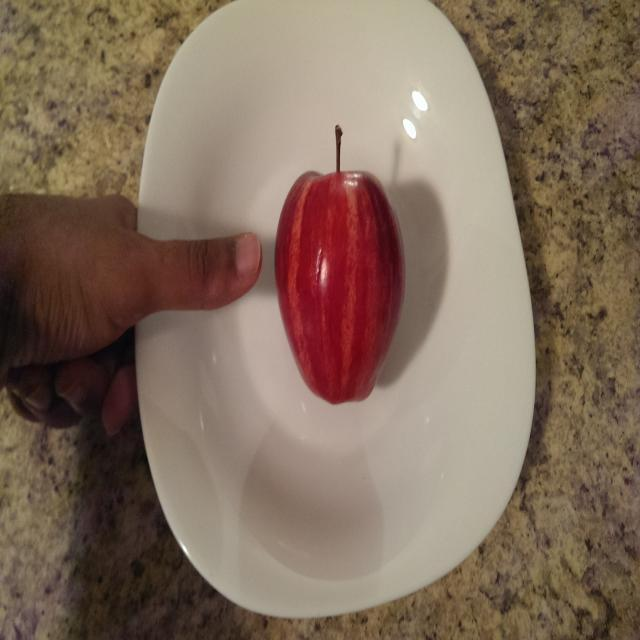Apple: (270, 118, 410, 416)
Finger: (175, 228, 265, 316)
